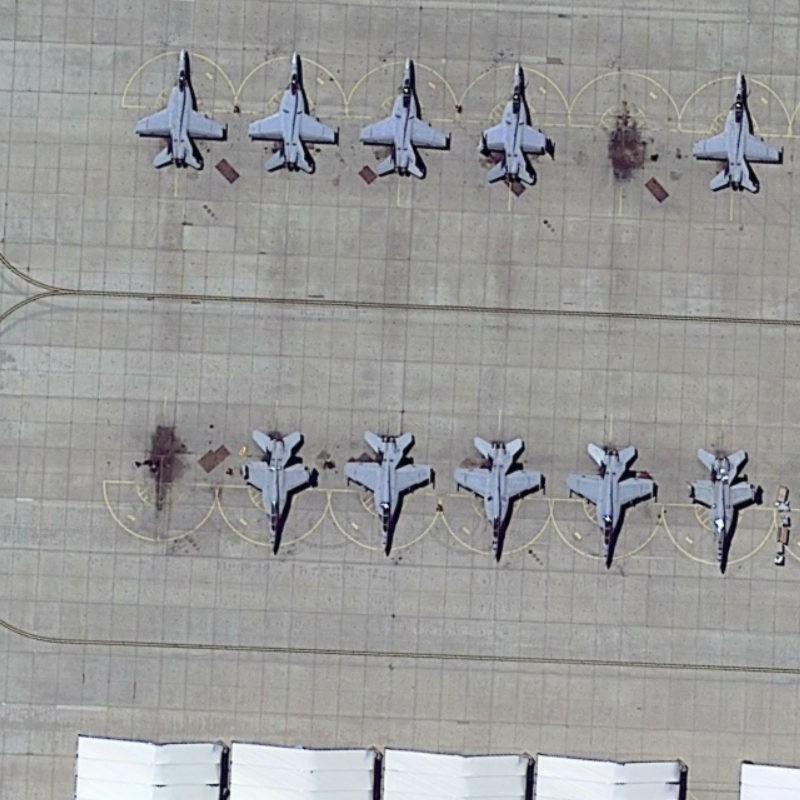A16: (446, 428, 552, 566), (555, 437, 664, 571), (128, 42, 232, 174), (244, 45, 344, 178), (340, 427, 438, 562), (687, 66, 788, 195), (357, 52, 453, 182), (686, 440, 765, 580), (240, 423, 318, 563), (476, 57, 551, 191)
